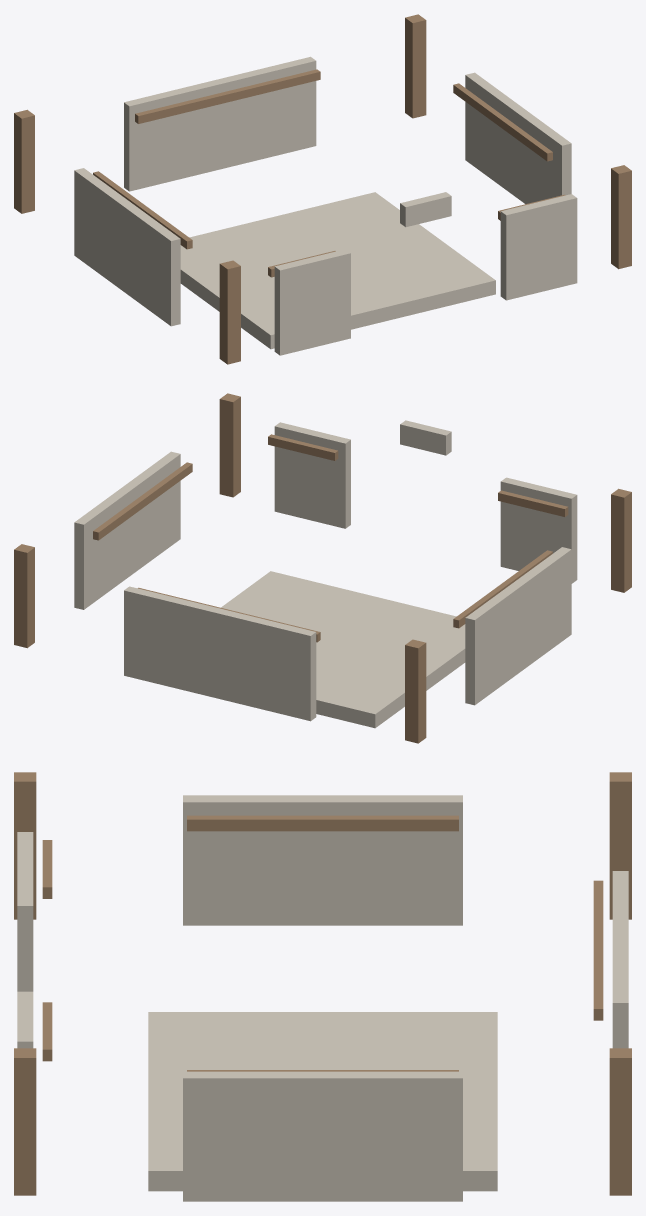
Rendered from building_shell_small_base.glb.
The picture shows the model from 3 angles, top to bottom: view 1: azimuth 30°, elevation 25°; view 2: azimuth 150°, elevation 25°; view 3: azimuth 270°, elevation 25°; orthographic projection. The views are drawn at different scales.
Visible parts, largest first — view 1: building_shell_small_base; view 2: building_shell_small_base; view 3: building_shell_small_base.
Boxes of the visible parts, <box> form: building_shell_small_base: <box>14,14,631,364</box>; building_shell_small_base: <box>14,393,631,743</box>; building_shell_small_base: <box>14,772,631,1201</box>.
Size of the model in its own units: 4.22 by 1.53 by 3.86.
